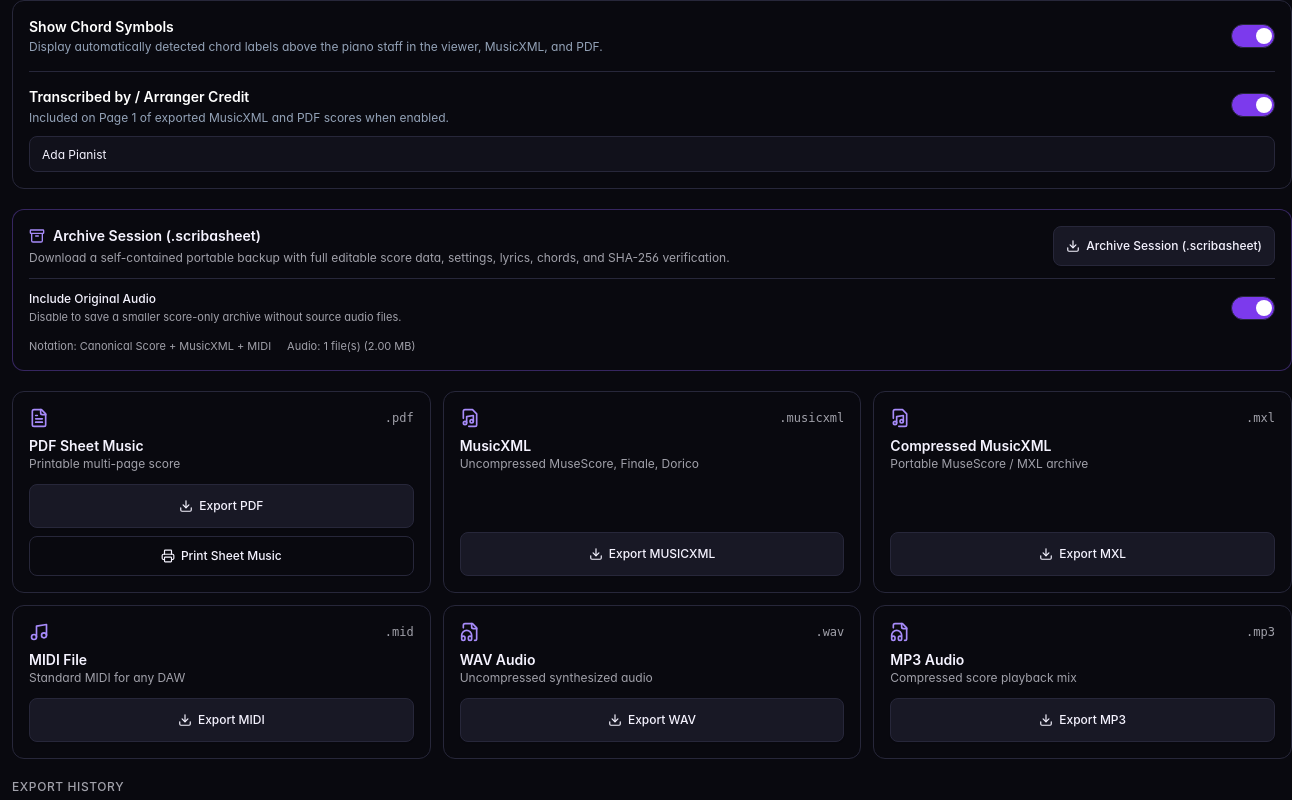
Portable .scribasheet Project Archive & Restore UI › ExportCenter provides Archive Session (.scribasheet), Include Original Audio toggle, warning when disabled, and non-destructive reminder
The width and height of the screenshot is (1292, 800).
Step 1. Click the switch with test id "export-archive-include-audio-toggle" → [1253, 308], box [1231, 296, 1275, 320]
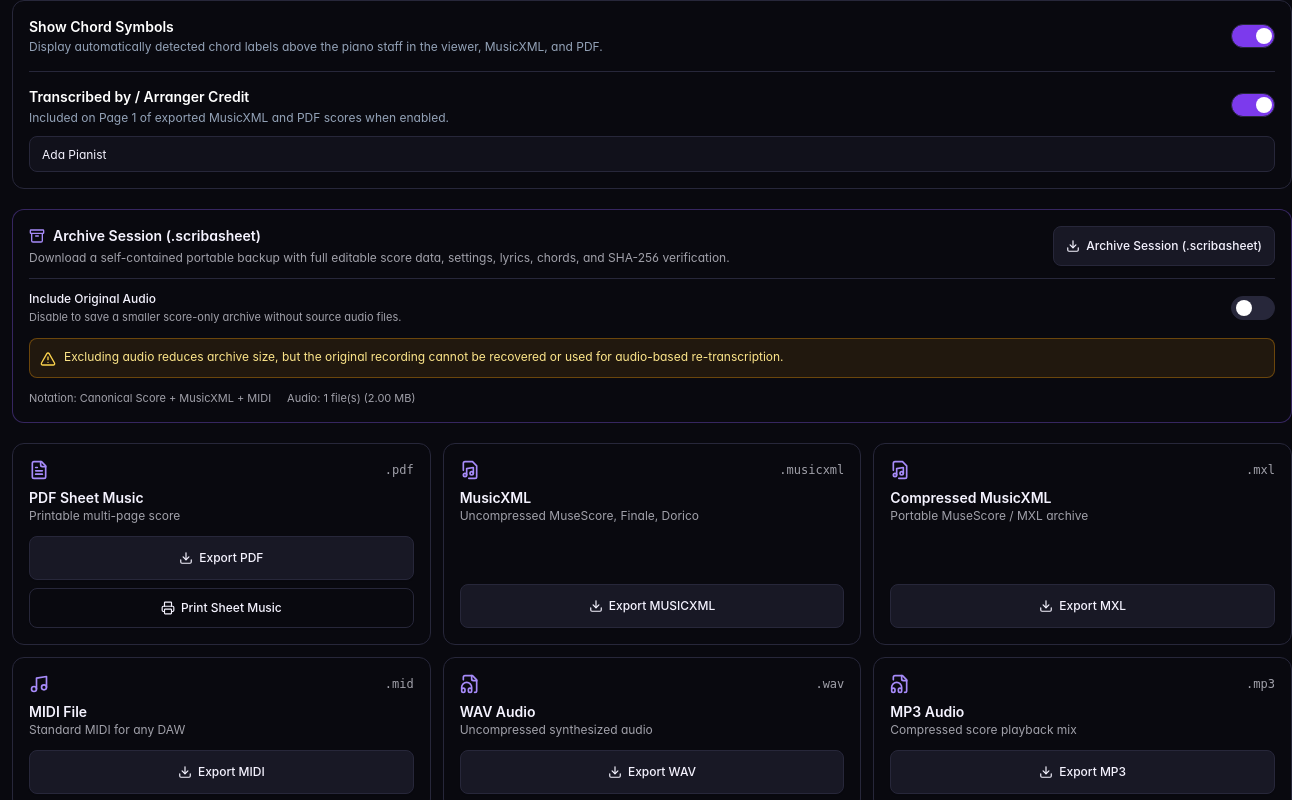
Now the element with test id "export-archive-audio-warning" shows "original recording cannot be recovered", box [64, 348, 784, 364]
Step 2. Click the button with test id "export-center-archive-btn" → [1164, 246], box [1053, 226, 1275, 266]
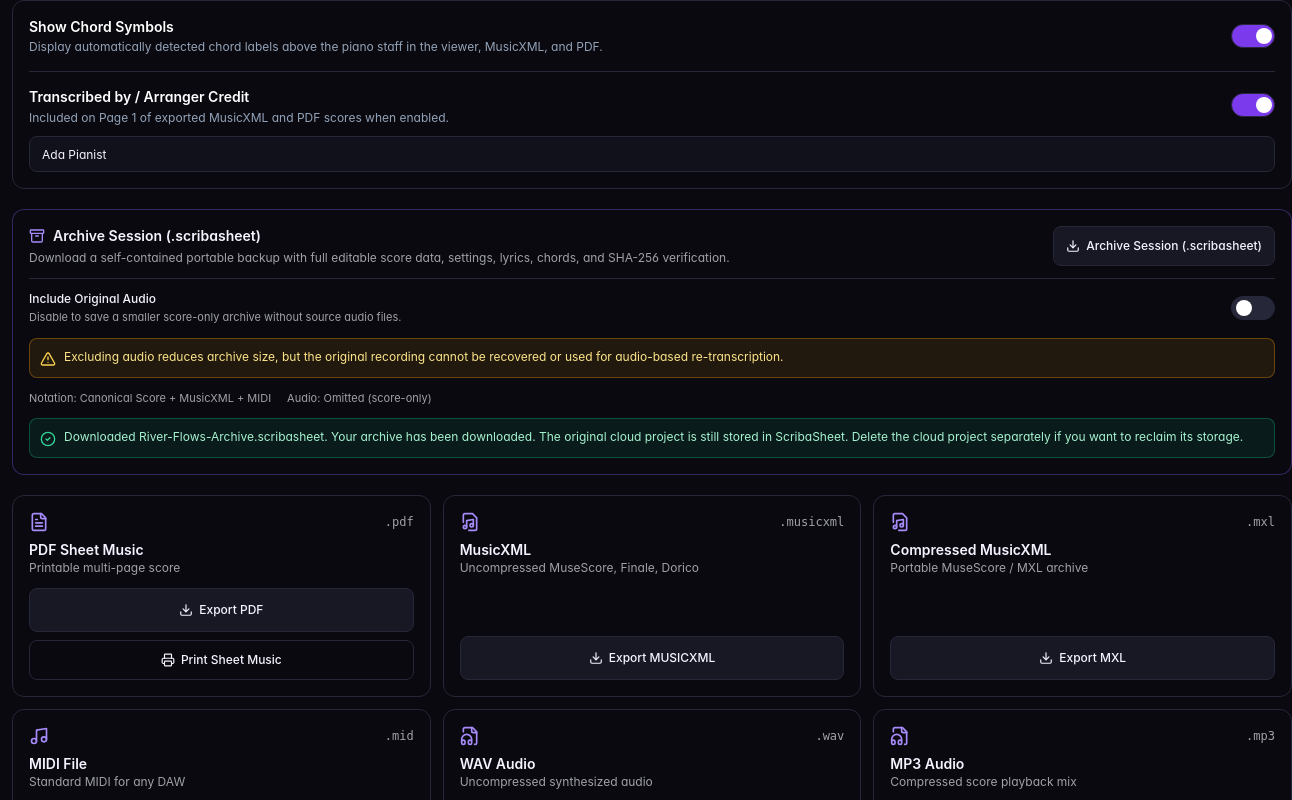
Now the element with test id "export-archive-success-notice" shows "Delete the cloud project separately", box [324, 429, 1243, 444]
